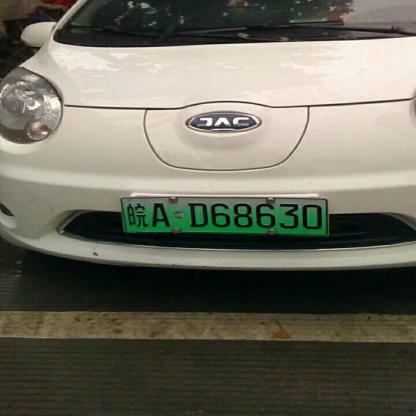lp: (121, 198, 326, 234)
